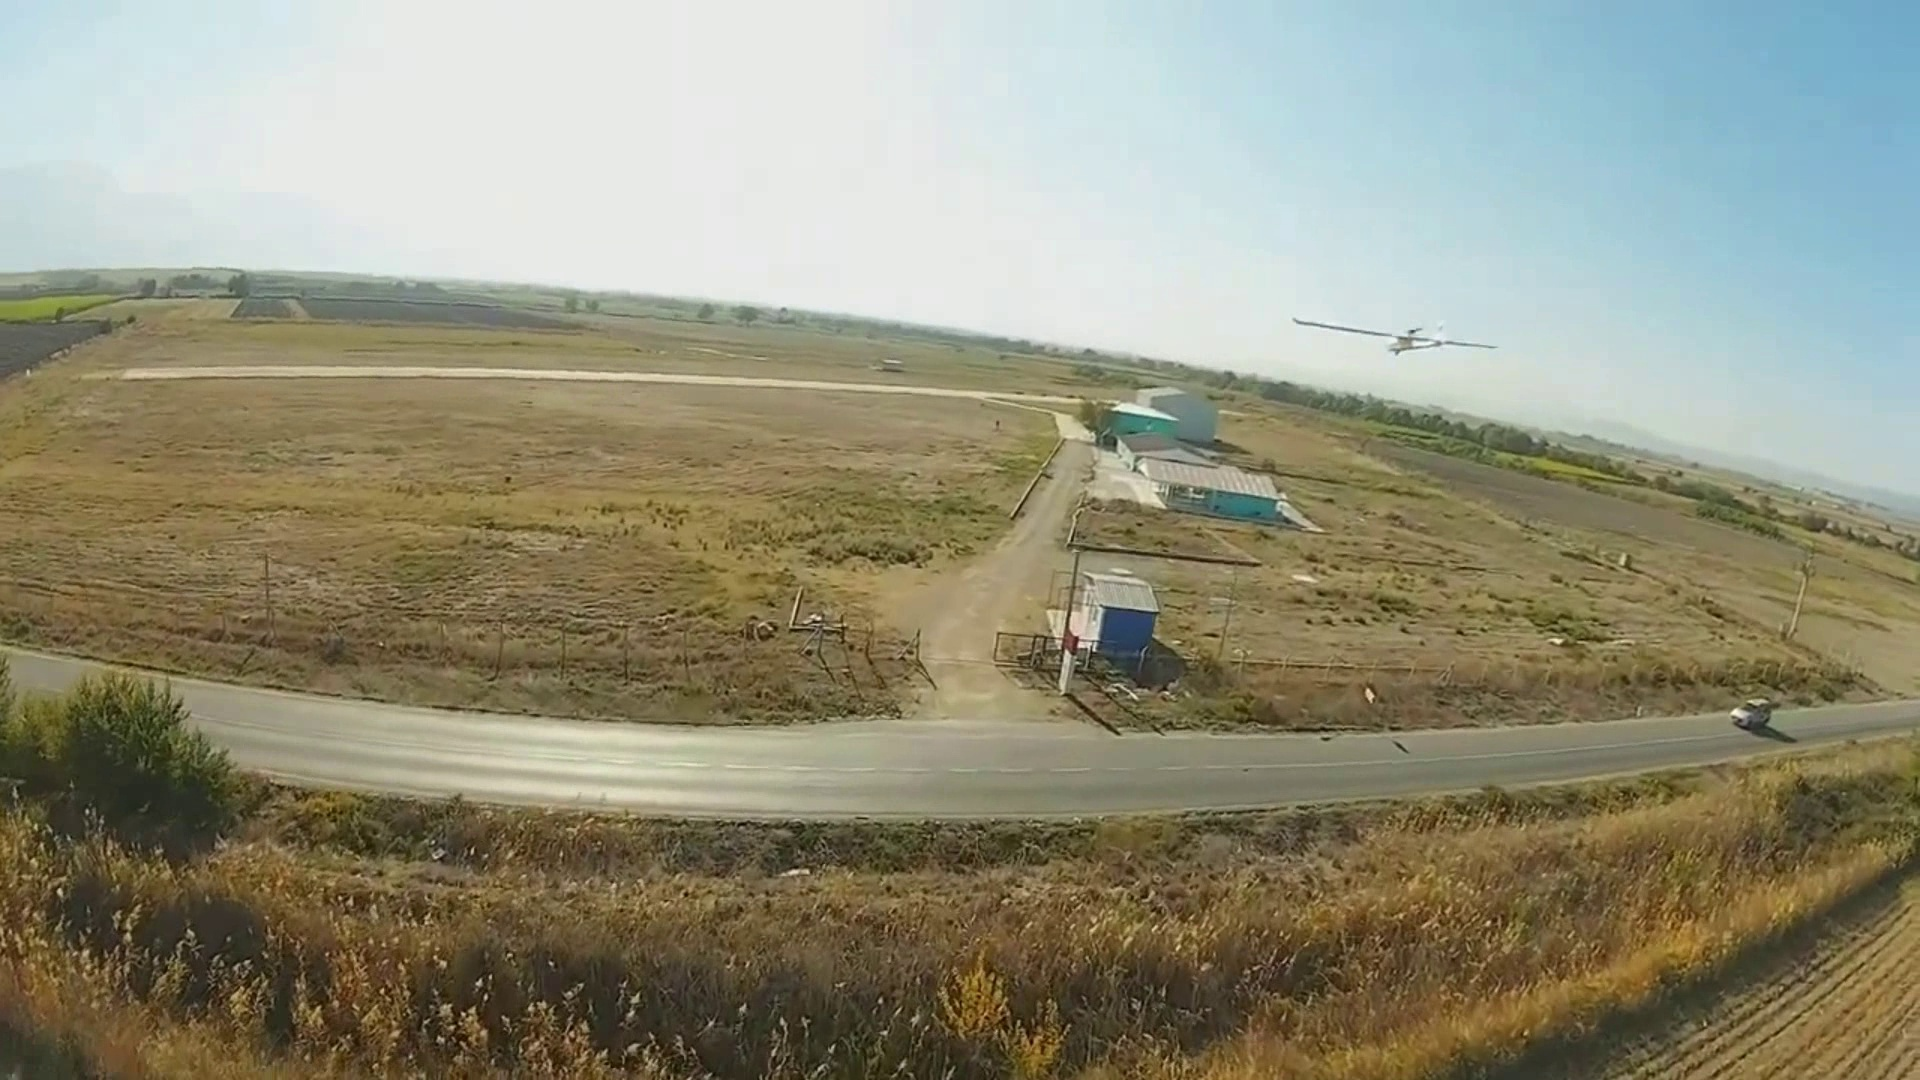airplane: (1091, 396, 1315, 530), (1287, 310, 1499, 356)
